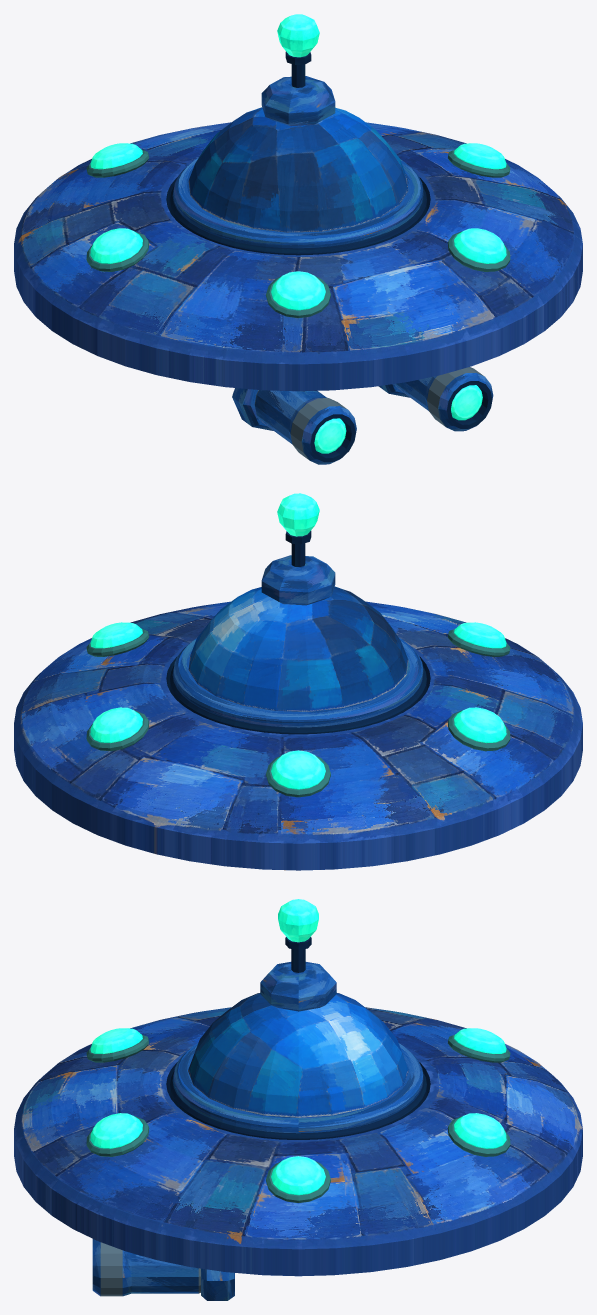
The model's file is ufo-modular-upgraded.glb.
3 views of the same model, one above another, from view 1: azimuth 30°, elevation 25°; view 2: azimuth 150°, elevation 25°; view 3: azimuth 270°, elevation 25° (orthographic).
Visible parts, largest first — view 1: Outer_Ring, Dome, Laser_Barrel (×2), Dome_Collar, Shield_Base, Bearing, Laser_Lens (×2), Rim_Lens_03, Rim_Lens_02, Rim_Lens_04, Shield_Crystal, Rim_Lens_01 (+7 smaller); view 2: Outer_Ring, Dome, Dome_Collar, Shield_Base, Bearing, Rim_Lens_05, Rim_Lens_04, Rim_Lens_06, Shield_Crystal, Rim_Lens_01, Rim_Lens_03, Rim_Bezel_05 (+5 smaller); view 3: Outer_Ring, Dome, Dome_Collar, Laser_Barrel, Shield_Base, Bearing, Rim_Lens_01, Rim_Lens_02, Rim_Lens_06, Shield_Crystal, Laser_Base, Rim_Lens_03 (+7 smaller).
Boxes of the visible parts, <box> form: Outer_Ring: <box>14,122,582,391</box>; Dome: <box>188,107,408,232</box>; Laser_Barrel (×2): <box>254,367,493,464</box>; Dome_Collar: <box>173,158,423,248</box>; Shield_Base: <box>261,76,335,126</box>; Bearing: <box>170,186,426,255</box>; Laser_Lens (×2): <box>314,385,482,453</box>; Rim_Lens_03: <box>271,271,325,310</box>; Rim_Lens_02: <box>454,228,506,263</box>; Rim_Lens_04: <box>90,228,142,263</box>; Shield_Crystal: <box>277,14,319,57</box>; Rim_Lens_01: <box>454,143,506,169</box>; Outer_Ring: <box>14,601,582,870</box>; Dome: <box>188,586,408,711</box>; Dome_Collar: <box>173,637,423,727</box>; Shield_Base: <box>261,555,335,605</box>; Bearing: <box>170,665,426,734</box>; Rim_Lens_05: <box>271,750,325,789</box>; Rim_Lens_04: <box>454,707,506,743</box>; Rim_Lens_06: <box>90,707,142,743</box>; Shield_Crystal: <box>277,493,319,536</box>; Rim_Lens_01: <box>90,622,142,648</box>; Rim_Lens_03: <box>454,622,506,648</box>; Rim_Bezel_05: <box>266,756,330,797</box>; Outer_Ring: <box>14,1007,582,1276</box>; Dome: <box>188,993,408,1117</box>; Dome_Collar: <box>173,1043,423,1133</box>; Laser_Barrel: <box>92,1239,200,1296</box>; Shield_Base: <box>260,962,336,1011</box>; Bearing: <box>170,1071,426,1139</box>; Rim_Lens_01: <box>271,1156,325,1195</box>; Rim_Lens_02: <box>90,1113,142,1148</box>; Rim_Lens_06: <box>454,1113,506,1148</box>; Shield_Crystal: <box>278,899,318,942</box>; Laser_Base: <box>201,1268,234,1300</box>; Rim_Lens_03: <box>90,1028,142,1053</box>.
Bounding box in the file's own units: 2.6 × 1.84 × 2.6.
9 materials, 7 textured.
